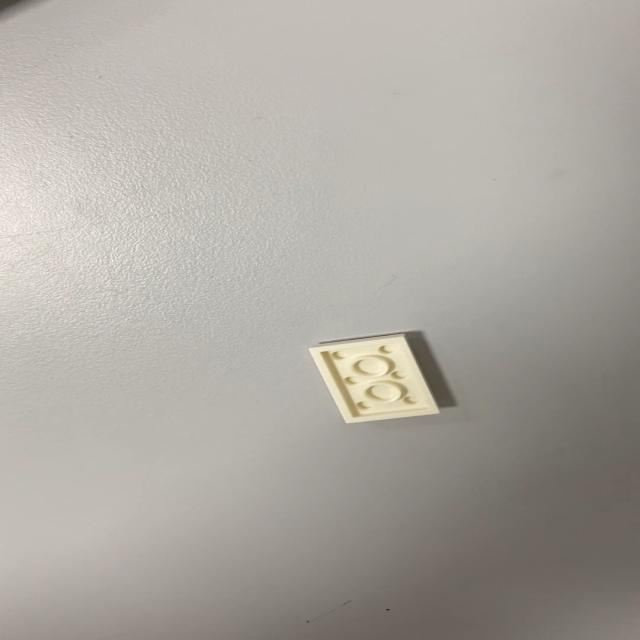C3x2x0: (305, 334, 440, 425)
